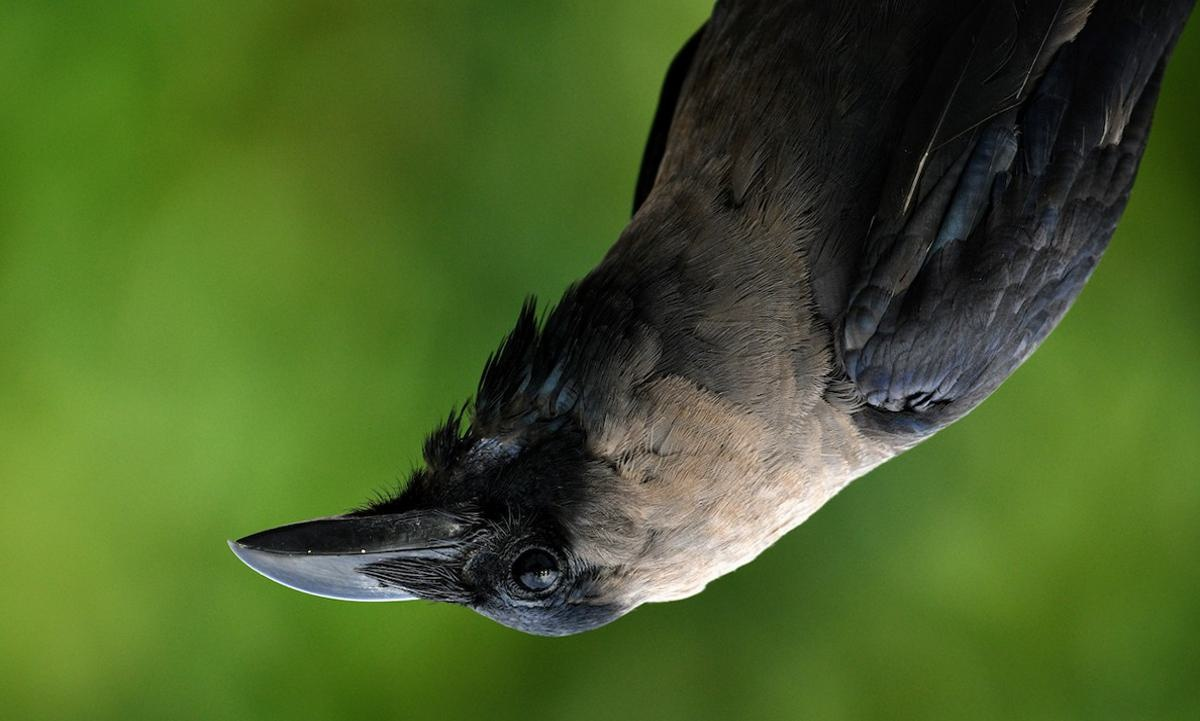crow: (211, 1, 1165, 648)
